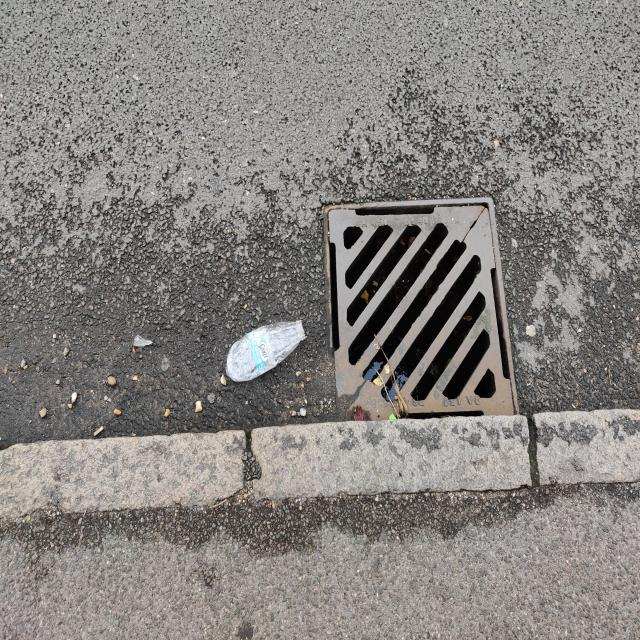litter: (224, 319, 308, 383)
